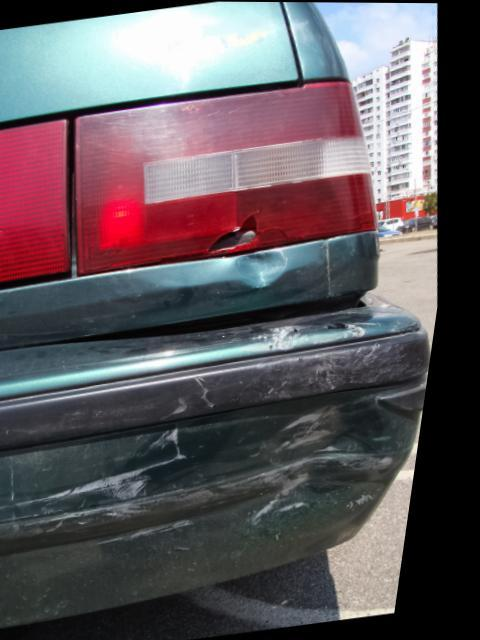dent: (156, 393, 401, 522), (244, 250, 294, 286)
lamp broken: (79, 79, 385, 276)
scratch: (0, 461, 214, 546)
